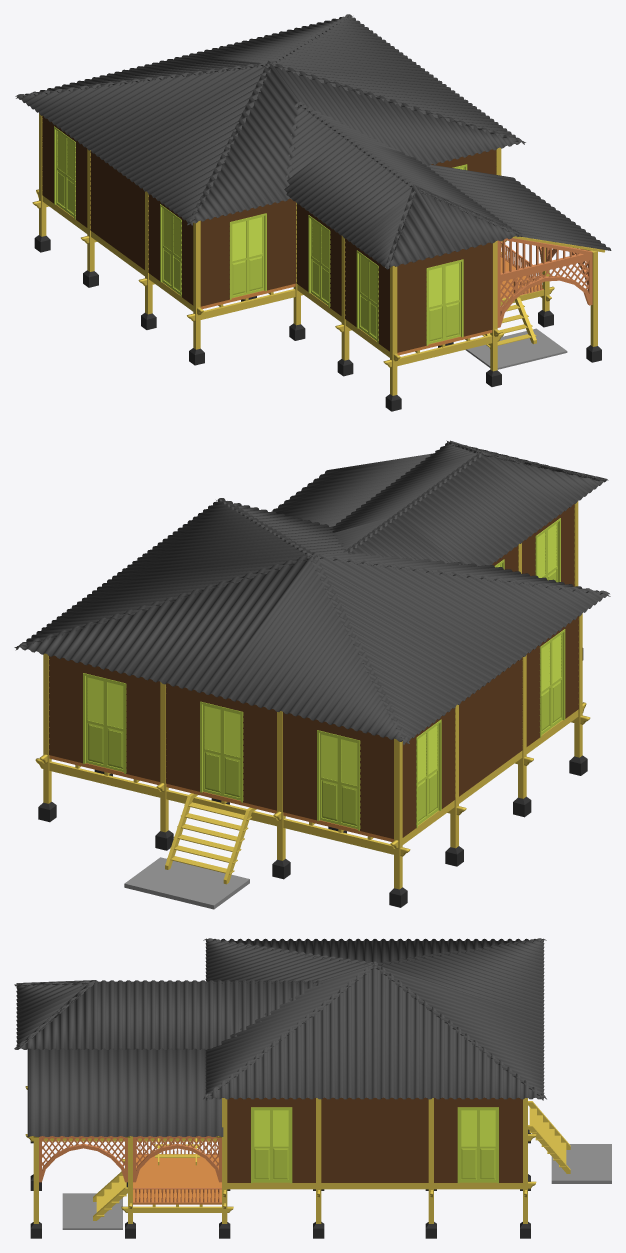
The model's file is House.fbx.
3 renders of one model, top to bottom at view 1: azimuth 30°, elevation 25°; view 2: azimuth 150°, elevation 25°; view 3: azimuth 270°, elevation 25°, orthographic. The views are drawn at different scales.
Visible parts, largest first — view 1: Circle.003, Circle.002, Circle.006, Circle.001, panel.013, panel.010, Circle, Circle.008, Circle.007, panel.007, Circle.005, Door.528 (+27 smaller); view 2: Circle.007, Circle.003, Circle.006, Circle.001, panel.012, panel.008, panel.011, panel.007, Circle.002, Circle, Circle.005, Door.652 (+21 smaller); view 3: Circle.001, Circle, Circle.005, Circle.007, Circle.002, panel.003, panel.006, panel.005, Circle.003, Cube.037, Door.280, Door.342 (+14 smaller).
Boxes of the visible parts, x1,y1,x2,y2 form: Circle.003: (15,61,274,225); Circle.002: (187,60,525,225); Circle.006: (284,101,415,269); Circle.001: (265,14,524,144); panel.013: (397,242,492,352); panel.010: (200,198,295,306); Circle: (427,164,611,250); Circle.008: (384,184,523,268); Circle.007: (16,15,352,98); panel.007: (90,151,144,269); Circle.005: (295,101,522,236); Door.528: (426,259,463,345); Circle.007: (14,552,409,743); Circle.003: (307,553,609,744); Circle.006: (343,452,607,566); Circle.001: (15,498,317,650); panel.012: (49,655,160,781); panel.008: (166,683,276,810); panel.011: (283,712,393,838); panel.007: (459,657,522,796); Circle.002: (216,499,610,596); Circle: (272,453,433,526); Circle.005: (330,440,482,554); Door.652: (83,673,126,773); Circle.001: (203,961,546,1099); Circle: (27,1048,223,1136); Circle.005: (14,980,320,1049); Circle.007: (371,938,544,1100); Circle.002: (205,938,378,1100); panel.003: (321,1098,428,1182); panel.006: (434,1098,522,1182); panel.005: (227,1098,315,1182); Circle.003: (203,938,546,966); Cube.037: (133,1155,221,1204); Door.280: (251,1107,292,1183); Door.342: (457,1107,498,1183).
Size of the model in its own units: 1016 by 592 by 1590.
